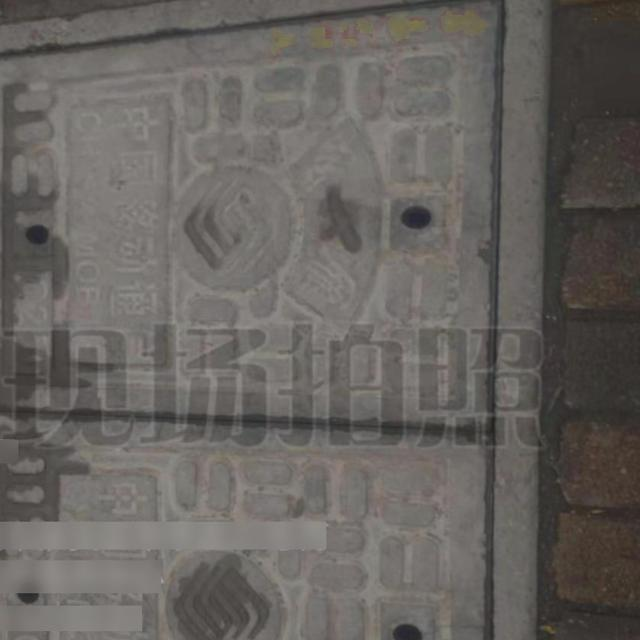good: (0, 0, 548, 640)
